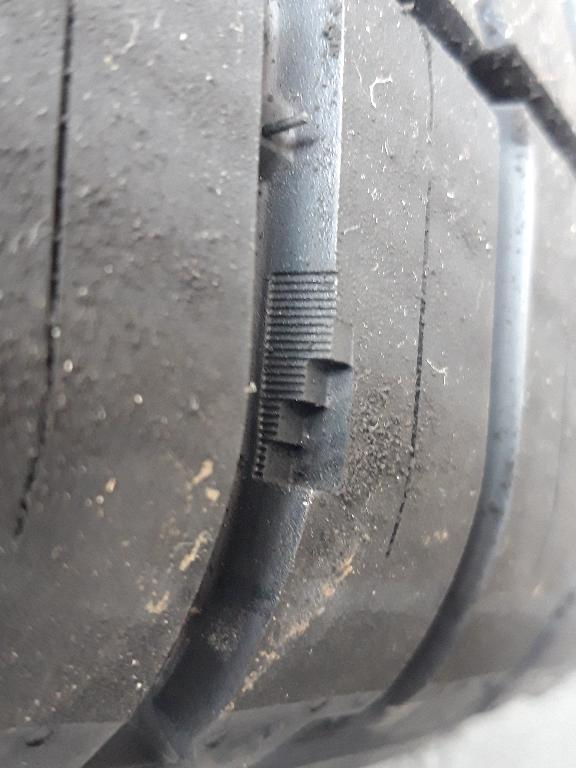temoin:75: (240, 310, 364, 505)
